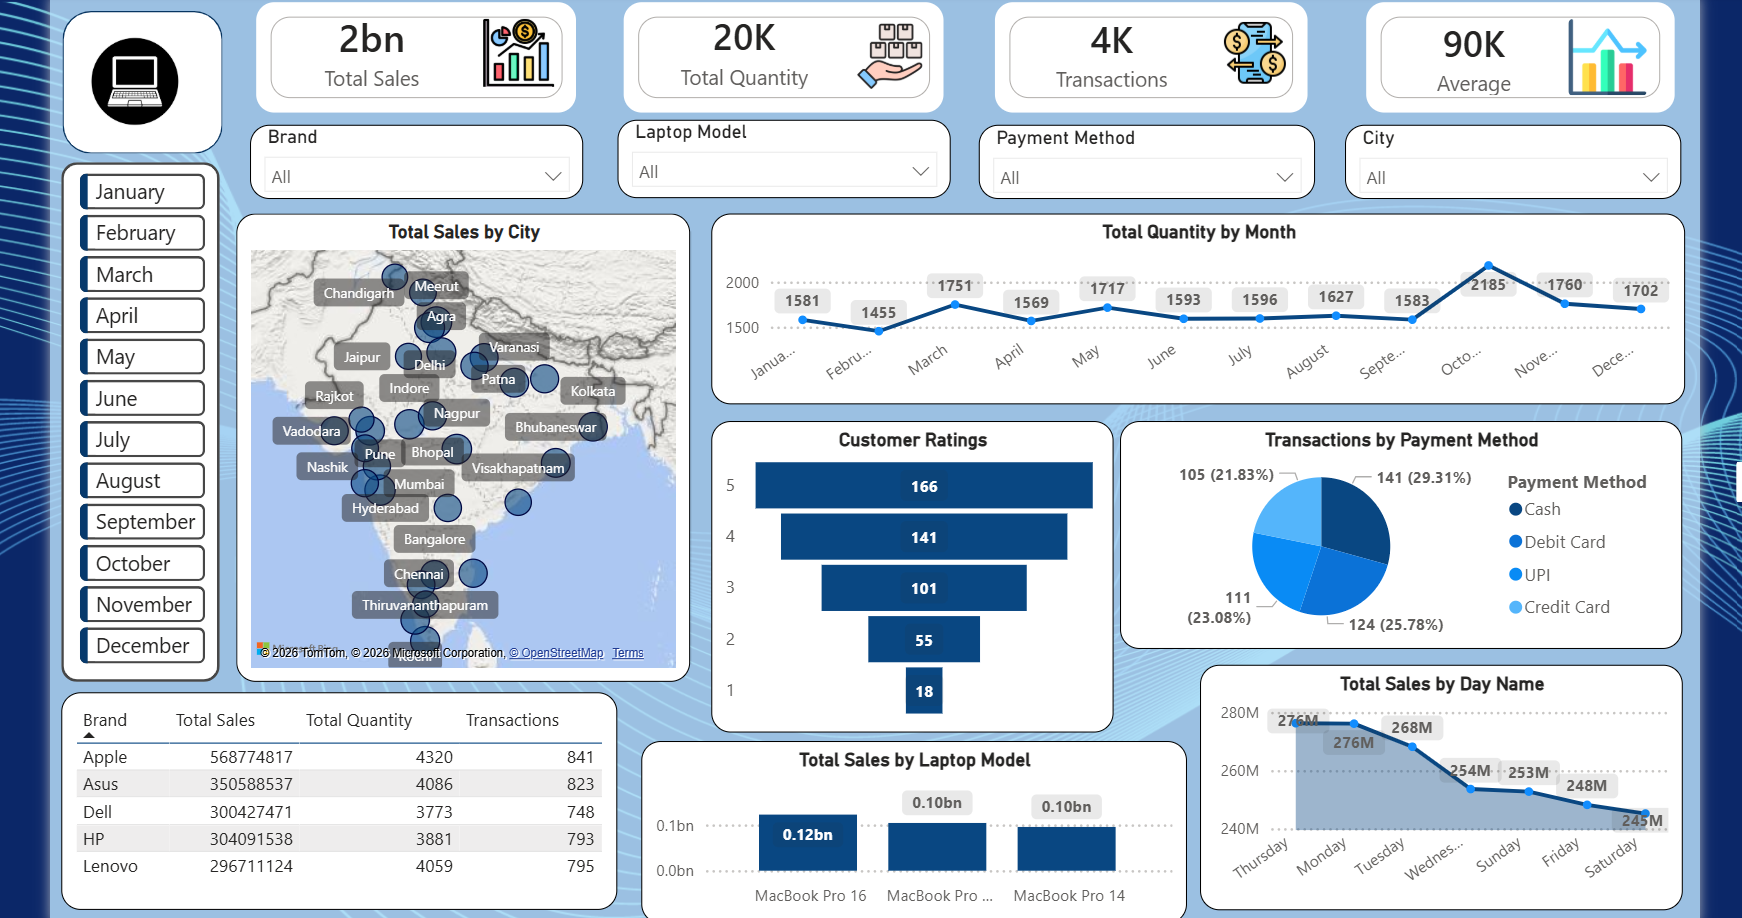

Layout of this report page (visuals, bound fields, positions):
{"tool":"powerbi","page":{"name":"Dashboard","canvas":[1280,720],"ordinal":0},"visuals":[{"type":"shape","box":[10.2,11.3,124.2,110.7],"z":0},{"type":"image","box":[17.1,24.3,97.1,84.3],"z":1000},{"type":"shape","box":[8.6,128.6,122.9,402.9],"z":2000},{"type":"listSlicer","fields":{"Values":["Laptop Sales India.Date.Variation.Date Hierarchy.Month"]},"box":[18.6,132.9,107.1,394.3],"z":3000},{"type":"cardVisual","fields":{"Data":["Laptop Sales India.Total Quantity"]},"box":[440.4,0,258.6,96],"z":4000},{"type":"cardVisual","fields":{"Data":["Laptop Sales India.Total Sales"]},"box":[154.7,0,258.6,96],"z":5000},{"type":"cardVisual","fields":{"Data":["Laptop Sales India.Transactions"]},"box":[728.3,0,252.9,96],"z":6000},{"type":"cardVisual","fields":{"Data":["Laptop Sales India.Average"]},"box":[1016.2,0,249.5,96],"z":7000},{"type":"map","fields":{"Category":["Laptop Sales India.City"],"Size":["Laptop Sales India.Total Sales"]},"box":[144.5,168.2,352.3,363.6],"z":8000},{"type":"lineChart","fields":{"Category":["Laptop Sales India.Date.Variation.Date Hierarchy.Year","Laptop Sales India.Date.Variation.Date Hierarchy.Quarter","Laptop Sales India.Date.Variation.Date Hierarchy.Month","Laptop Sales India.Date.Variation.Date Hierarchy.Day"]},"box":[623.3,258.3,295,225],"z":9000},{"type":"lineChart","fields":{"Category":["Laptop Sales India.Date.Variation.Date Hierarchy.Month","Laptop Sales India.Date.Variation.Date Hierarchy.Day"],"Y":["Laptop Sales India.Total Quantity"]},"box":[512.6,168.2,755.4,147.9],"z":10000},{"type":"clusteredColumnChart","fields":{"Y":["Laptop Sales India.Total Sales"],"Category":["Laptop Sales India.Laptop Model"]},"box":[458.6,578.2,423,141.4],"z":11000},{"type":"pieChart","fields":{"Y":["Laptop Sales India.Transactions"],"Category":["Laptop Sales India.Payment Method"]},"box":[830,330,435.7,177.1],"z":12000},{"type":"funnel","title":"Customer Ratings","fields":{"Category":["Laptop Sales India.Customer Ratings"],"Y":["CountNonNull(Laptop Sales India.Customer Ratings)"]},"box":[512.6,329.7,311.6,241.6],"z":13000},{"type":"lineChart","fields":{"Y":["Laptop Sales India.Total Sales"],"Category":["Laptop Sales India.Day Name"]},"box":[891.4,518.6,374.3,190],"z":14000},{"type":"tableEx","fields":{"Values":["Laptop Sales India.Brand","Laptop Sales India.Total Sales","Laptop Sales India.Total Quantity","Laptop Sales India.Transactions"]},"box":[8.6,540,431.4,168.6],"z":15000},{"type":"slicer","fields":{"Values":["Laptop Sales India.Brand"]},"box":[154.7,99.4,258.6,57.6],"z":16000},{"type":"slicer","fields":{"Values":["Laptop Sales India.Laptop Model"]},"box":[440.4,96,258.6,61],"z":17000},{"type":"slicer","fields":{"Values":["Laptop Sales India.Payment Method"]},"box":[720.4,99.4,260.8,57.6],"z":18000},{"type":"slicer","fields":{"Values":["Laptop Sales India.City"]},"box":[1003.8,99.4,260.8,57.6],"z":19000}]}

Visuals, with their boxes in screenshot pixels (x1, y1, x2, y2):
shape: <box>54,1,216,145</box>
image: <box>63,18,189,128</box>
shape: <box>52,154,212,678</box>
listSlicer - Laptop Sales India.Date.Variation.Date Hierarchy.Month: <box>65,159,204,672</box>
cardVisual - Laptop Sales India.Total Quantity: <box>614,0,950,111</box>
cardVisual - Laptop Sales India.Total Sales: <box>242,0,579,111</box>
cardVisual - Laptop Sales India.Transactions: <box>989,0,1318,111</box>
cardVisual - Laptop Sales India.Average: <box>1363,0,1688,111</box>
map - Laptop Sales India.City x Laptop Sales India.Total Sales: <box>229,205,687,678</box>
lineChart - Laptop Sales India.Date.Variation.Date Hierarchy.Year x Laptop Sales India.Date.Variation.Date Hierarchy.Quarter: <box>852,323,1236,615</box>
lineChart - Laptop Sales India.Date.Variation.Date Hierarchy.Month x Laptop Sales India.Date.Variation.Date Hierarchy.Day: <box>708,205,1691,398</box>
clusteredColumnChart - Laptop Sales India.Total Sales x Laptop Sales India.Laptop Model: <box>638,739,1188,917</box>
pieChart - Laptop Sales India.Transactions x Laptop Sales India.Payment Method: <box>1121,416,1688,646</box>
"Customer Ratings" funnel: <box>708,415,1113,730</box>
lineChart - Laptop Sales India.Total Sales x Laptop Sales India.Day Name: <box>1201,661,1688,908</box>
tableEx - Laptop Sales India.Brand x Laptop Sales India.Total Sales: <box>52,689,613,908</box>
slicer - Laptop Sales India.Brand: <box>242,116,579,191</box>
slicer - Laptop Sales India.Laptop Model: <box>614,111,950,191</box>
slicer - Laptop Sales India.Payment Method: <box>978,116,1318,191</box>
slicer - Laptop Sales India.City: <box>1347,116,1686,191</box>
